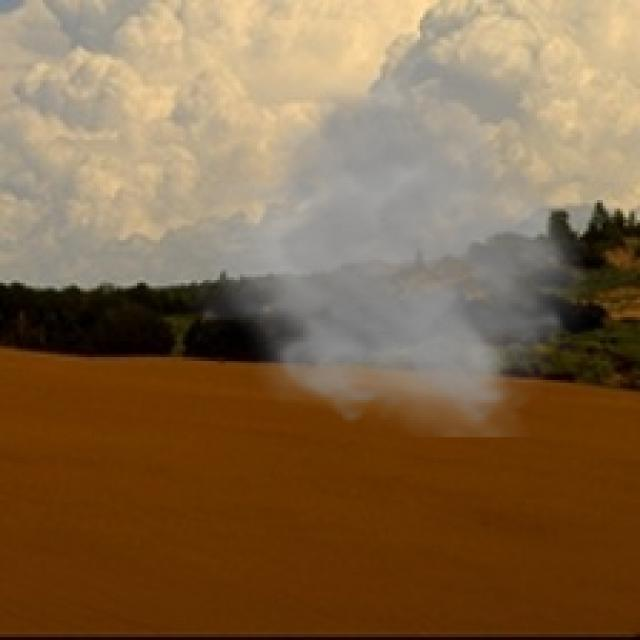Smoke: (185, 32, 598, 437)
